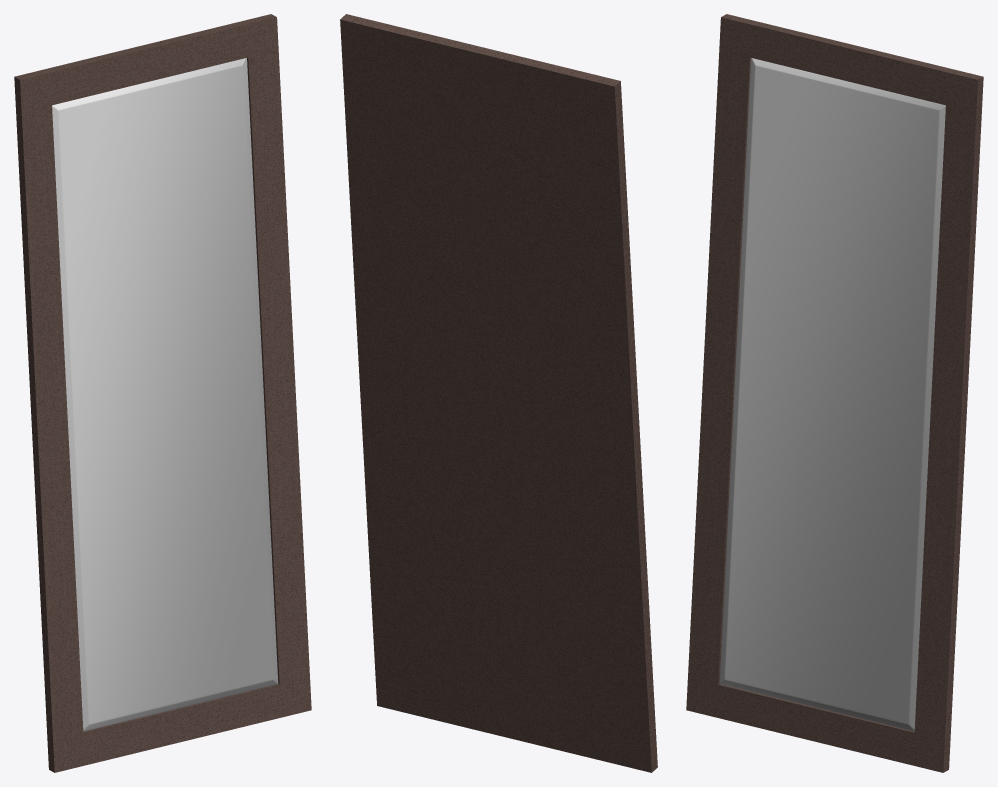
Rendered from mirror_B071RNV5PK.glb.
3 views of the same model, side by side, from view 1: azimuth 30°, elevation 25°; view 2: azimuth 150°, elevation 25°; view 3: azimuth 330°, elevation 25° (orthographic). The views are drawn at different scales.
Visible parts, largest first — view 1: RootNode; view 2: RootNode; view 3: RootNode.
Part boxes in pixels (box(x1,y1,x2,y2)): RootNode: box(14, 14, 311, 772); RootNode: box(340, 14, 657, 772); RootNode: box(686, 14, 983, 772).
Size of the model in its own units: 0.8123 by 2.02 by 0.2211.
Materials: 1 (1 with a texture image).
